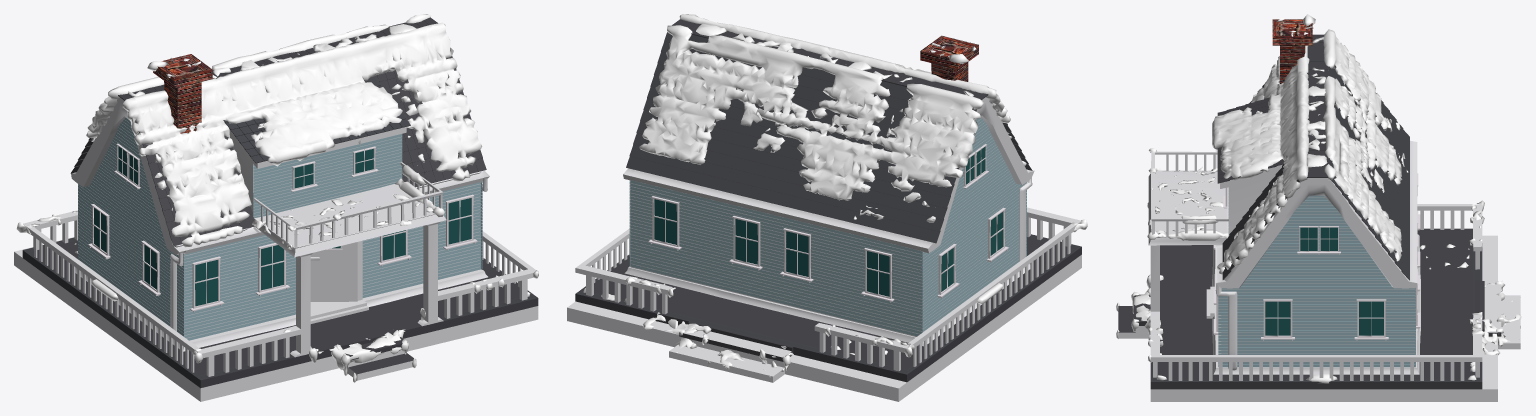
File: house.glb
3 renders of one model, left to right at view 1: azimuth 30°, elevation 25°; view 2: azimuth 150°, elevation 25°; view 3: azimuth 270°, elevation 25°, orthographic. The views are drawn at different scales.
Parts seen in each view (by area): view 1: paint, snow, panels, tiles, windows_glass, windows_frames, chimney_0, doors; view 2: snow, paint, tiles, panels, windows_glass, windows_frames, chimney_0; view 3: paint, tiles, snow, panels, windows_glass, windows_frames, chimney_0.
Part boxes in pixels (<box>): paint: <box>14,97,538,401</box>; snow: <box>16,14,538,382</box>; panels: <box>78,117,482,340</box>; tiles: <box>22,17,538,388</box>; windows_glass: <box>94,146,471,306</box>; windows_frames: <box>88,143,477,312</box>; chimney_0: <box>153,54,212,133</box>; doors: <box>310,242,357,301</box>; snow: <box>583,14,1087,377</box>; paint: <box>567,97,1081,401</box>; tiles: <box>575,19,1081,382</box>; panels: <box>629,117,1026,336</box>; windows_glass: <box>654,147,1002,296</box>; windows_frames: <box>648,144,1008,302</box>; chimney_0: <box>920,35,978,81</box>; paint: <box>1118,140,1520,401</box>; tiles: <box>1118,34,1501,389</box>; snow: <box>1116,14,1521,383</box>; panels: <box>1218,187,1415,367</box>; windows_glass: <box>1265,227,1383,335</box>; windows_frames: <box>1213,173,1420,340</box>; chimney_0: <box>1272,19,1312,84</box>.
Size of the model in its own units: 10.1 by 7.64 by 11.08.
7 materials, 1 textured.
